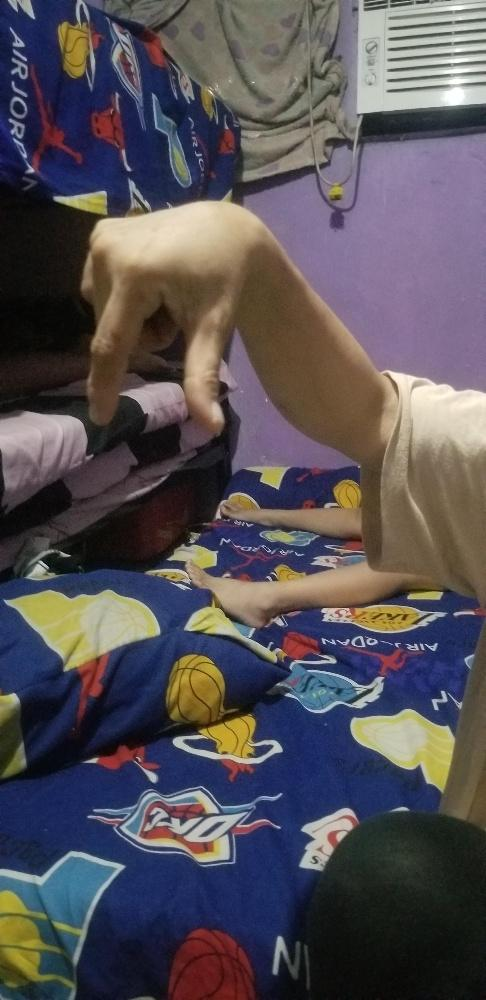q: (82, 197, 236, 428)
